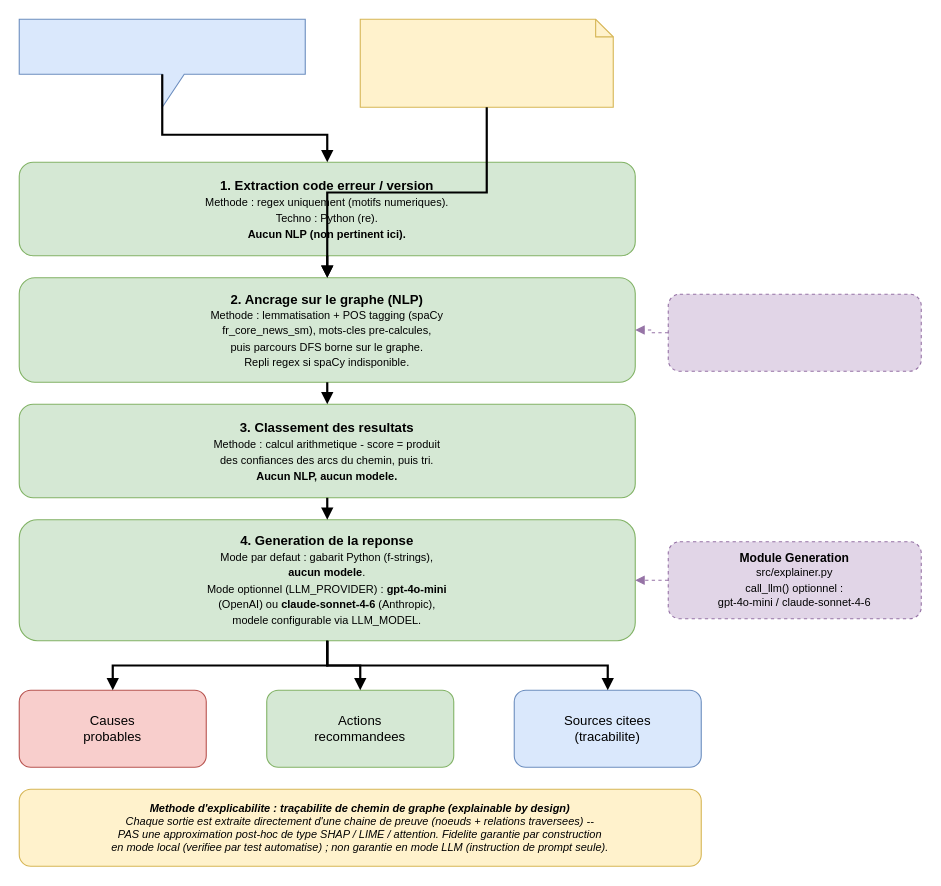
The diagram is 941 pixels wide and 886 high, and some of its shapes have lost their labels. Each missing label, with the box of its shape:
Graphe de connaissances (fichier .json): (359, 18, 613, 107)
Module NLP src/nlp.py spaCy fr_core_news_sm (repli regex si absent): (667, 293, 921, 371)
Question du client (texte): (18, 18, 305, 107)
